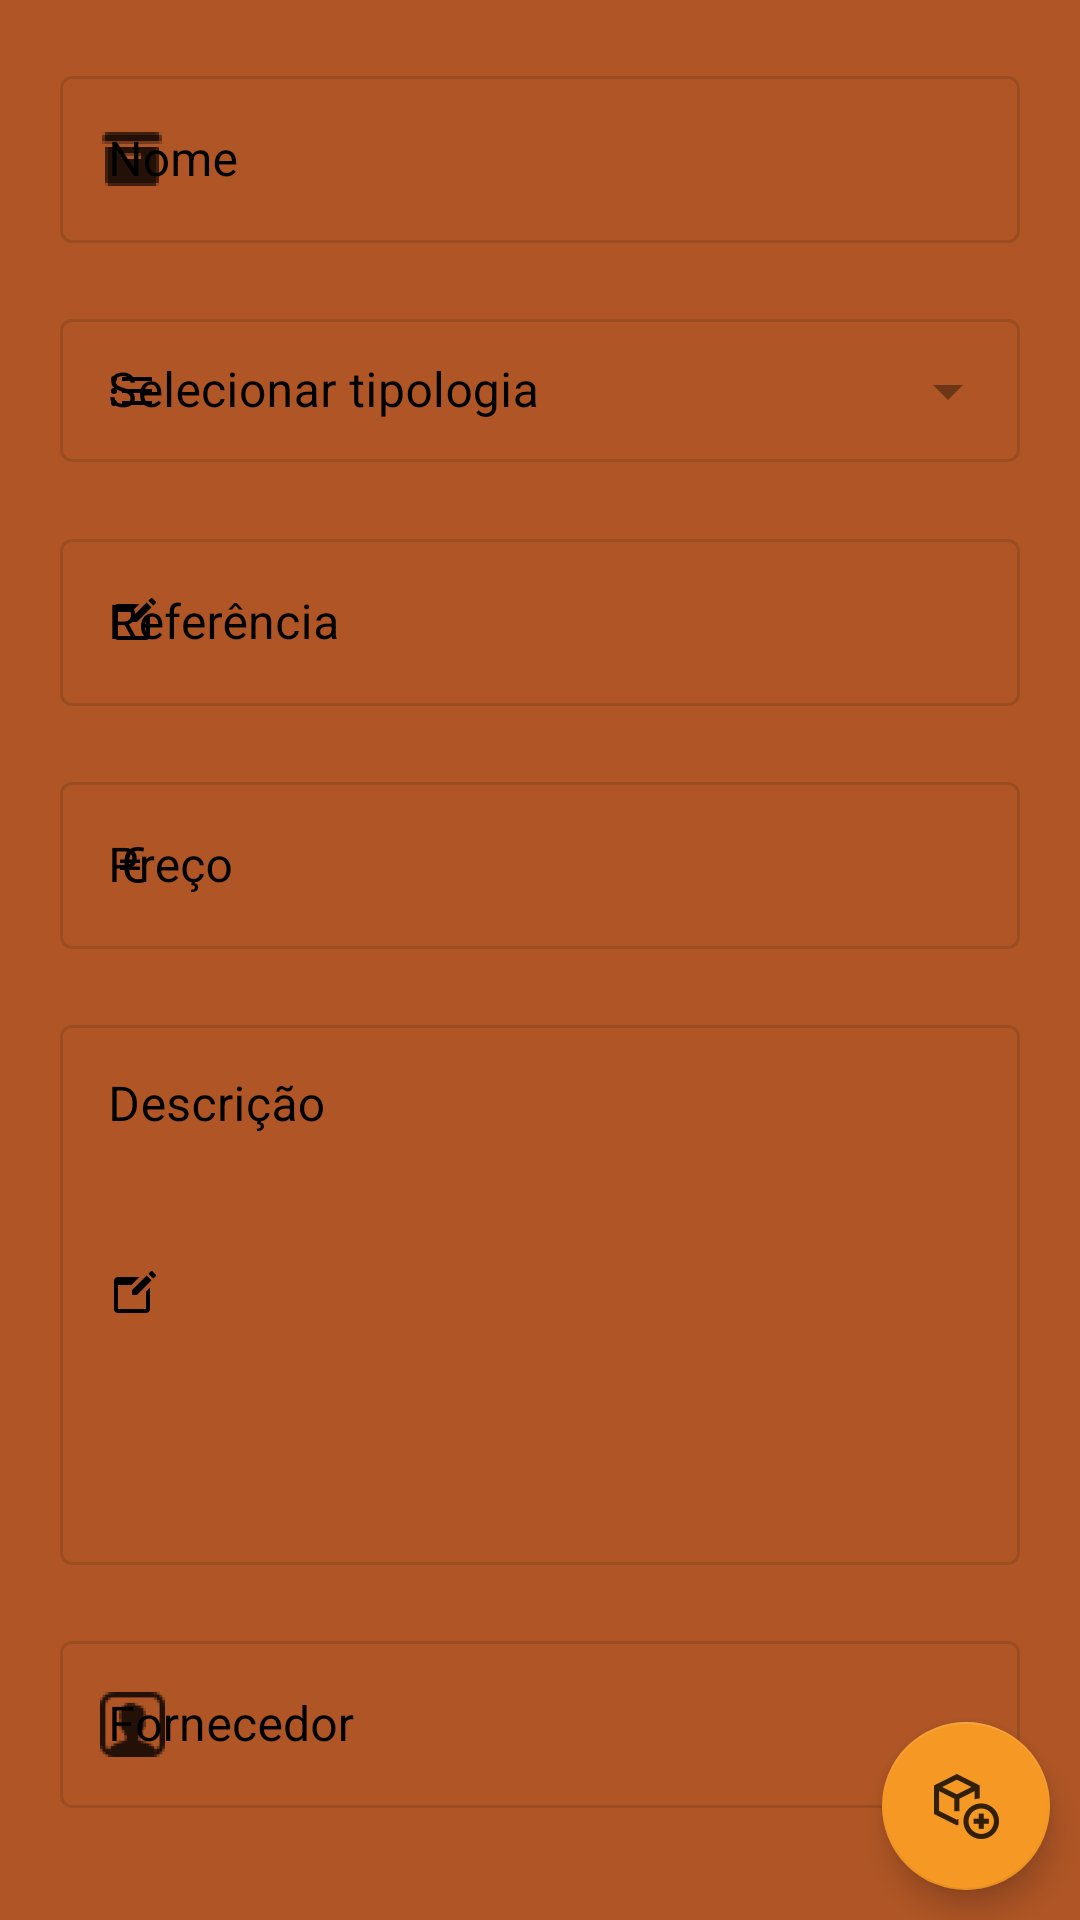

Icon click points for this 1080px x 1920px phone screenshot, format [x,y]:
produto add: [966,1806]
